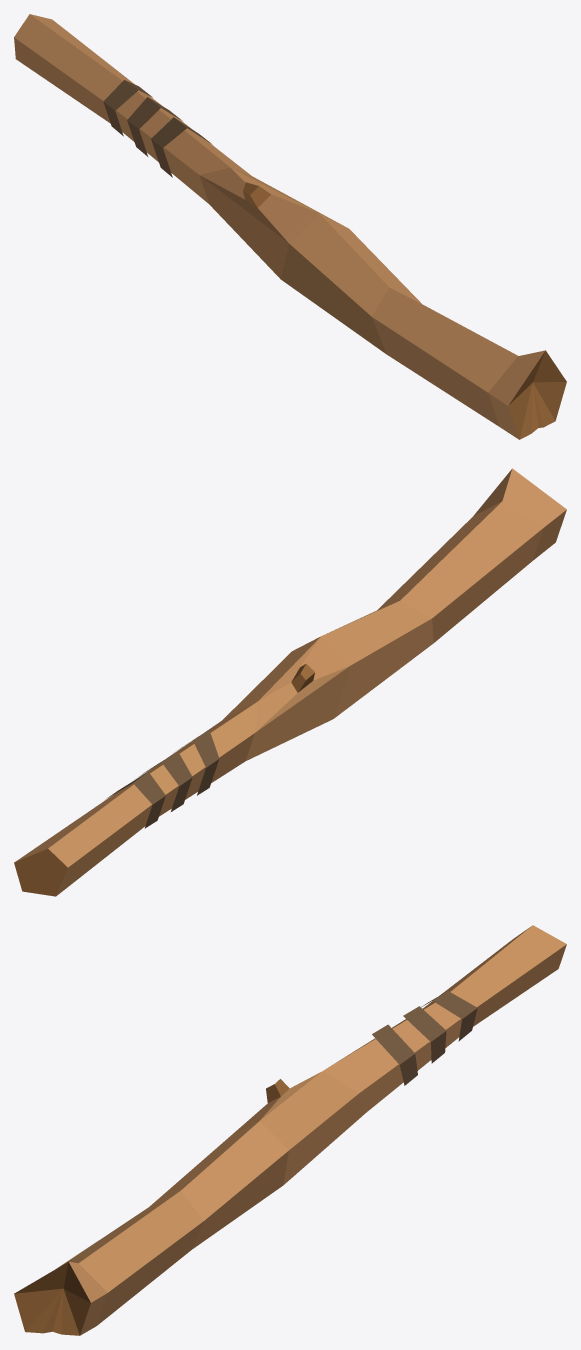
The model's file is Club_3D.glb.
3 views of the same model, one above another, from view 1: azimuth 30°, elevation 25°; view 2: azimuth 150°, elevation 25°; view 3: azimuth 330°, elevation 25° (orthographic). The views are drawn at different scales.
Parts seen in each view (by area): view 1: woodenClub (1); view 2: woodenClub (1); view 3: woodenClub (1).
Part boxes in pixels (x1,y1,x2,y2): woodenClub (1): [14, 14, 566, 439]; woodenClub (1): [14, 468, 566, 896]; woodenClub (1): [14, 925, 566, 1335].
Size of the model in its own units: 0.0898 by 0.104 by 1.15.
1 material, 1 textured.
